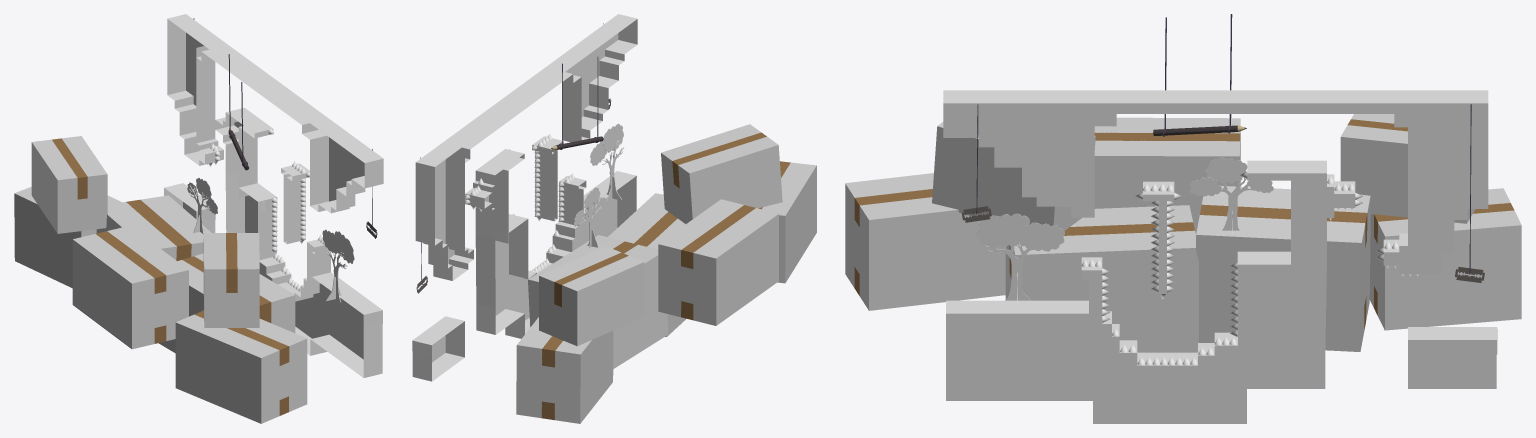
Rendered from Pantalla 12-DEF.fbx.
3 renders of one model, left to right at view 1: azimuth 30°, elevation 25°; view 2: azimuth 150°, elevation 25°; view 3: azimuth 270°, elevation 25°, orthographic. The views are drawn at different scales.
Visible parts, largest first — view 1: Cube.005, Caja_1.003, Caja_1.001, Cube.001, Cube.007, Caja_1.002, Caja_1, Cube, Cube.006, Cylinder.004, Arbol1.008, Arbol2.010 (+1 smaller); view 2: Cube.005, Caja_1.001, Cube.007, Cube.001, Caja_1.002, Caja_1, Caja_1.003, Cube, Cube.006, Cylinder.004, Arbol1.008, Arbol2.010 (+1 smaller); view 3: Cube.005, Caja_1.003, Cube, Caja_1, Caja_1.002, Caja_1.001, Cube.006, Cube.007, Cube.001, Arbol1.008, Arbol2.011, Arbol2.012 (+3 smaller).
Part boxes in pixels (x1,y1,x2,y2): Cube.005: (164,14,383,377); Caja_1.003: (175,310,307,423); Caja_1.001: (72,225,188,349); Cube.001: (31,136,107,233); Cube.007: (203,233,259,327); Caja_1.002: (14,187,121,288); Caja_1: (96,195,211,260); Cube: (158,253,295,353); Cube.006: (164,183,382,325); Cylinder.004: (228,54,248,170); Arbol1.008: (187,177,217,214); Arbol2.010: (326,248,347,302); Cube.005: (412,14,637,381); Caja_1.001: (658,199,778,325); Cube.007: (661,124,782,223); Cube.001: (539,246,644,346); Caja_1.002: (516,317,613,423); Caja_1: (528,235,668,368); Caja_1.003: (758,161,816,283); Cube: (608,193,686,336); Cube.006: (412,171,636,358); Cylinder.004: (551,57,603,149); Arbol1.008: (574,187,605,226); Arbol2.010: (602,140,624,201); Cube.005: (943,90,1496,423); Caja_1.003: (845,173,1005,310); Cube: (1005,205,1198,352); Caja_1: (1196,185,1370,351); Caja_1.002: (1369,188,1521,330); Caja_1.001: (1094,117,1240,234); Cube.006: (946,251,1497,358); Cube.007: (932,122,1095,230); Cube.001: (1340,114,1475,223); Arbol1.008: (1189,157,1273,196); Arbol2.011: (976,213,1029,248); Arbol2.012: (1017,222,1064,251).
Size of the model in its own units: 4545 by 5742 by 9362.
